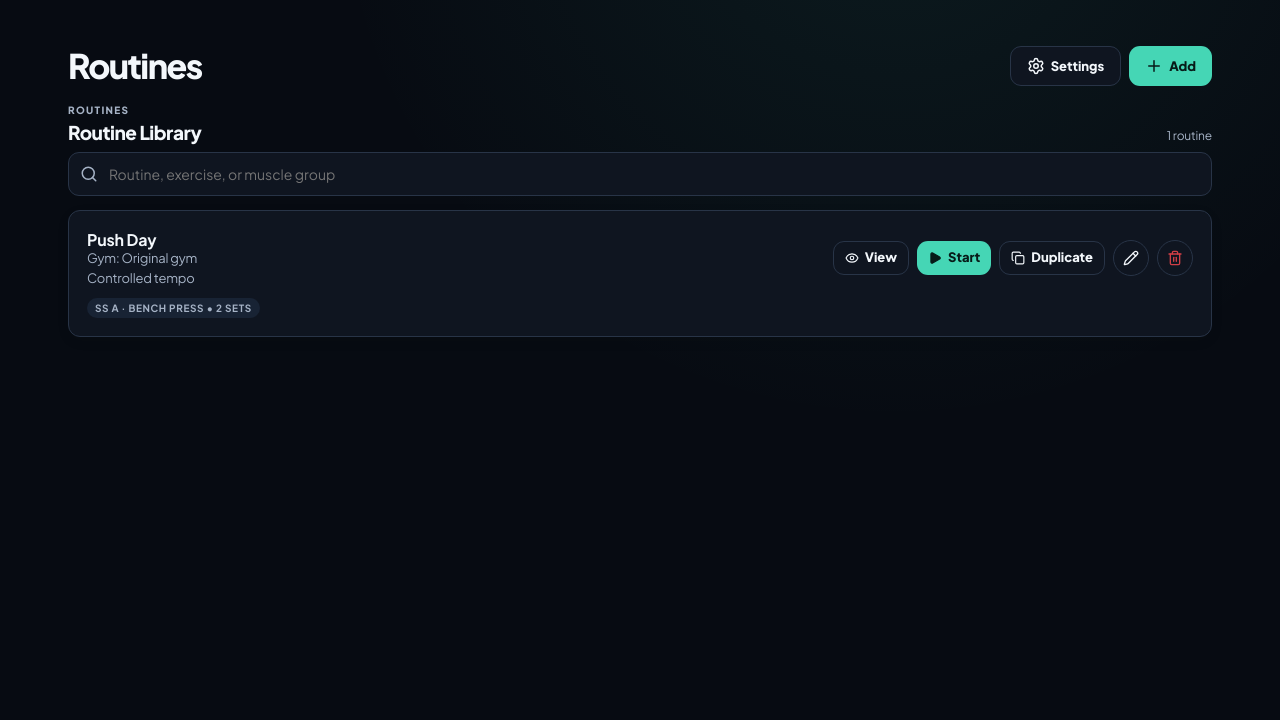
Test: duplicate routine editor › rejects a draft from a changed account before saving
What coordinates should you click on to do the following:
click the button with aria-label "Duplicate Push Day"
I would click on:
 (1052, 258)
Its box is 999,240 -> 1105,274.
(page scrolled)
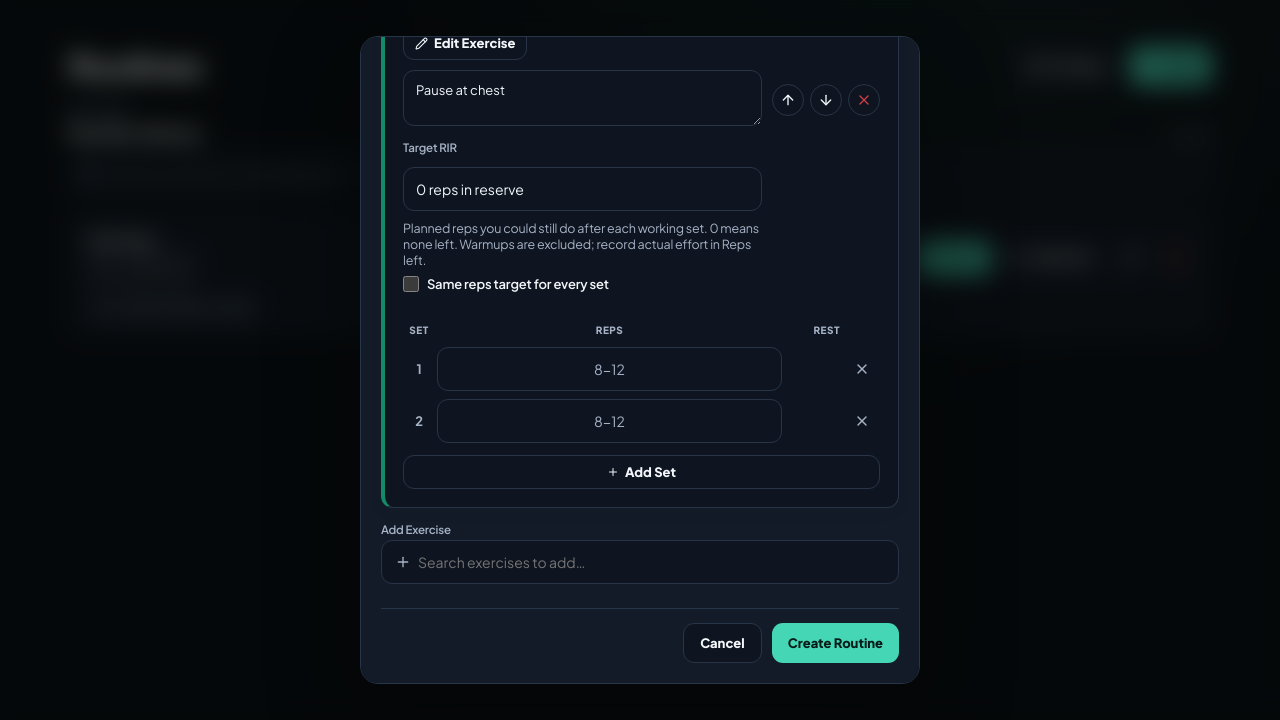
What coordinates should you click on to do the following:
click the button "Create Routine"
I would click on:
 (835, 643)
Its box is 772,623 -> 899,663.
(page scrolled)
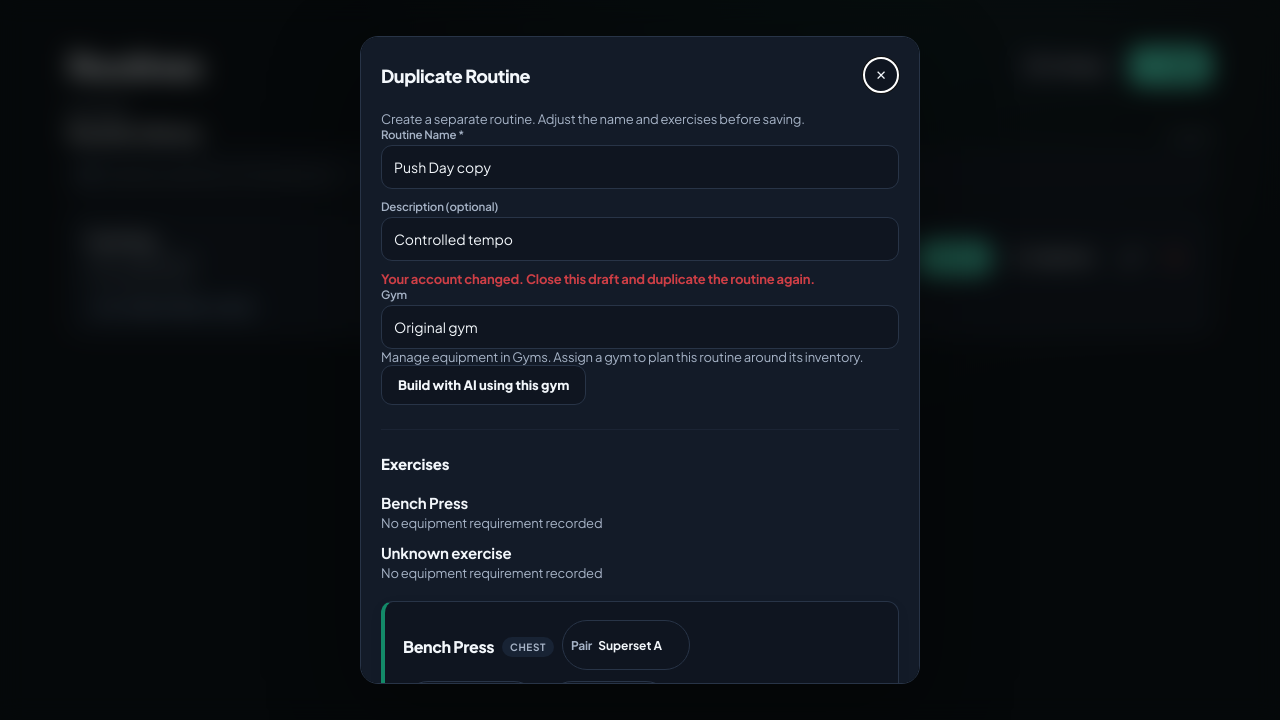
Now the message shows "Your account changed", box 381,271 -> 815,287
